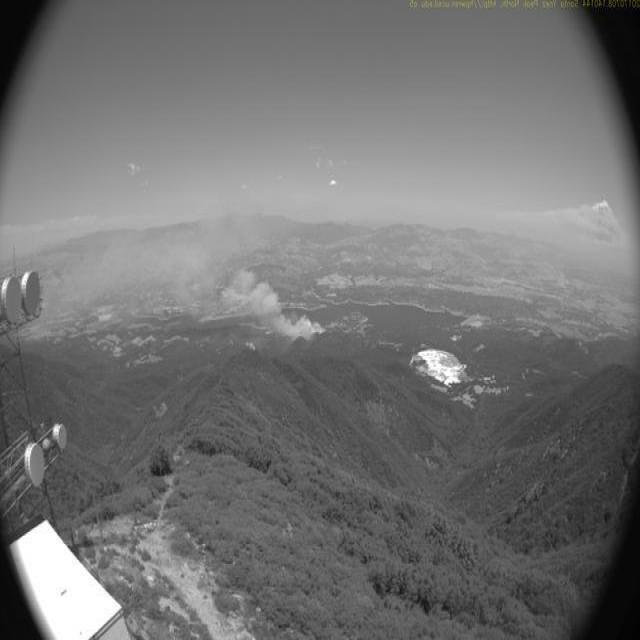smoke: (106, 201, 330, 344)
